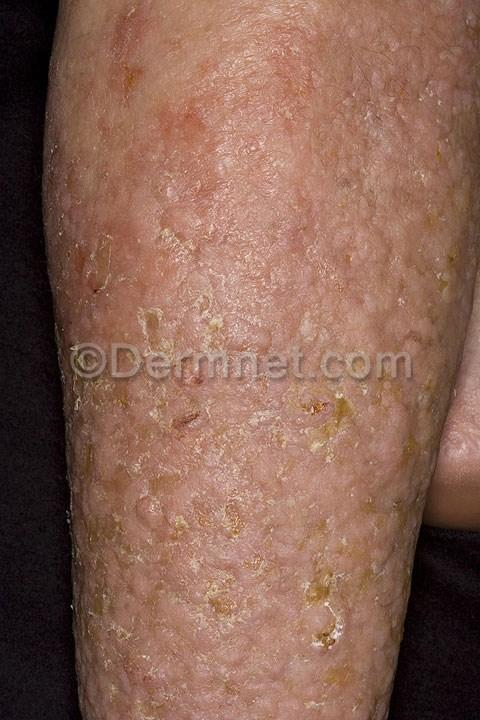Eczema: (45, 46, 309, 349), (218, 396, 444, 700), (295, 21, 480, 358), (65, 394, 213, 711)
